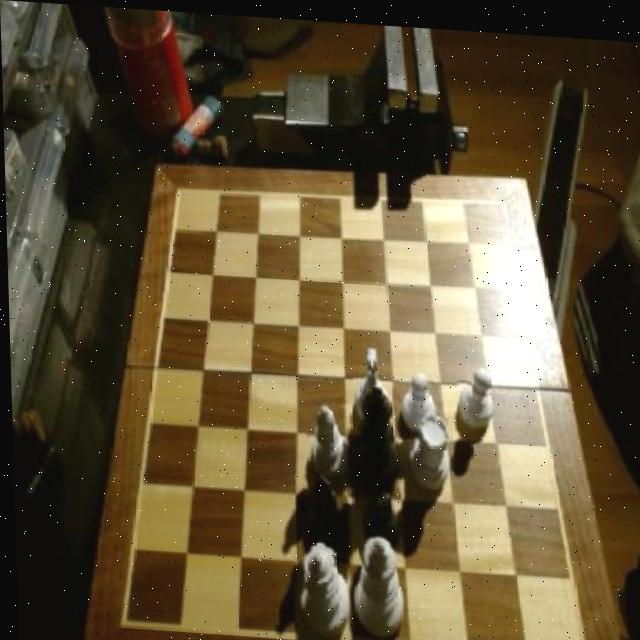bishop: (294, 470, 350, 554)
black-bishop: (351, 382, 398, 485)
black-knight: (355, 486, 401, 545)
black-rook: (303, 398, 349, 483)
white-bishop: (347, 528, 403, 632)
white-king: (351, 342, 388, 414)
white-knight: (452, 359, 495, 434), (399, 368, 436, 430)
white-pawn: (294, 536, 351, 640)
white-queen: (407, 407, 448, 495)
